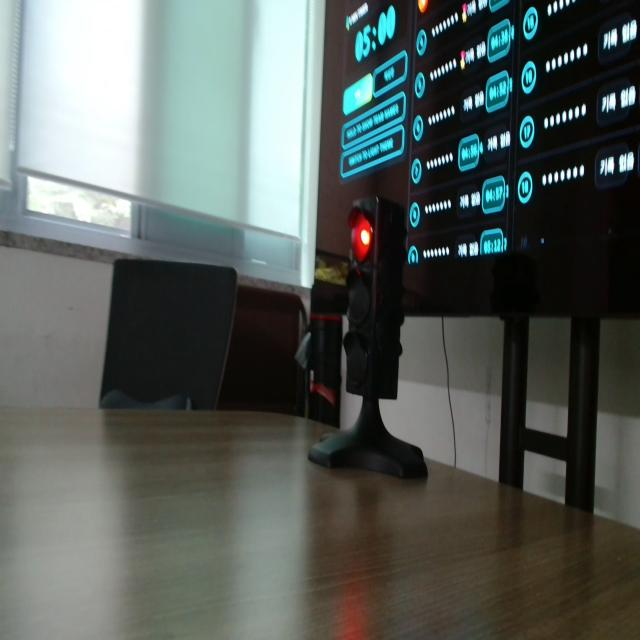red_light: (350, 210, 372, 261), (360, 229, 370, 246)
